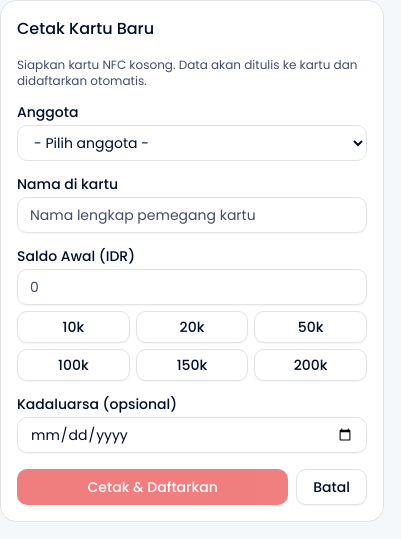
Test: StationCardIssuePanel › auto-fills name when member selected
Select "Budi (#u-1)" in the dropdown at (192, 143), box left=17, top=125, right=367, bottom=161
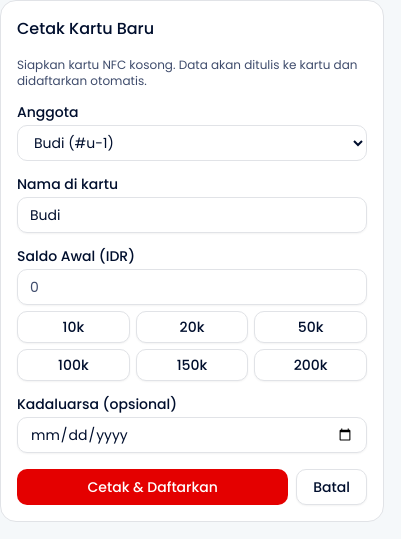
Expected: the field with placeholder "Nama lengkap pemegang kartu" holds "Budi", left=17, top=197, right=367, bottom=233
